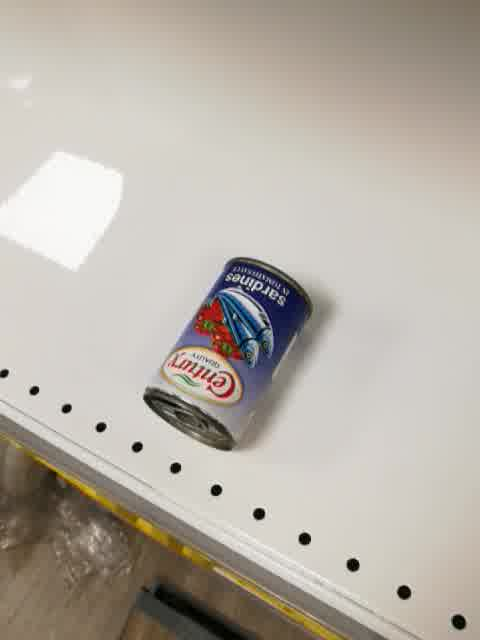sardine: (140, 256, 315, 454)
